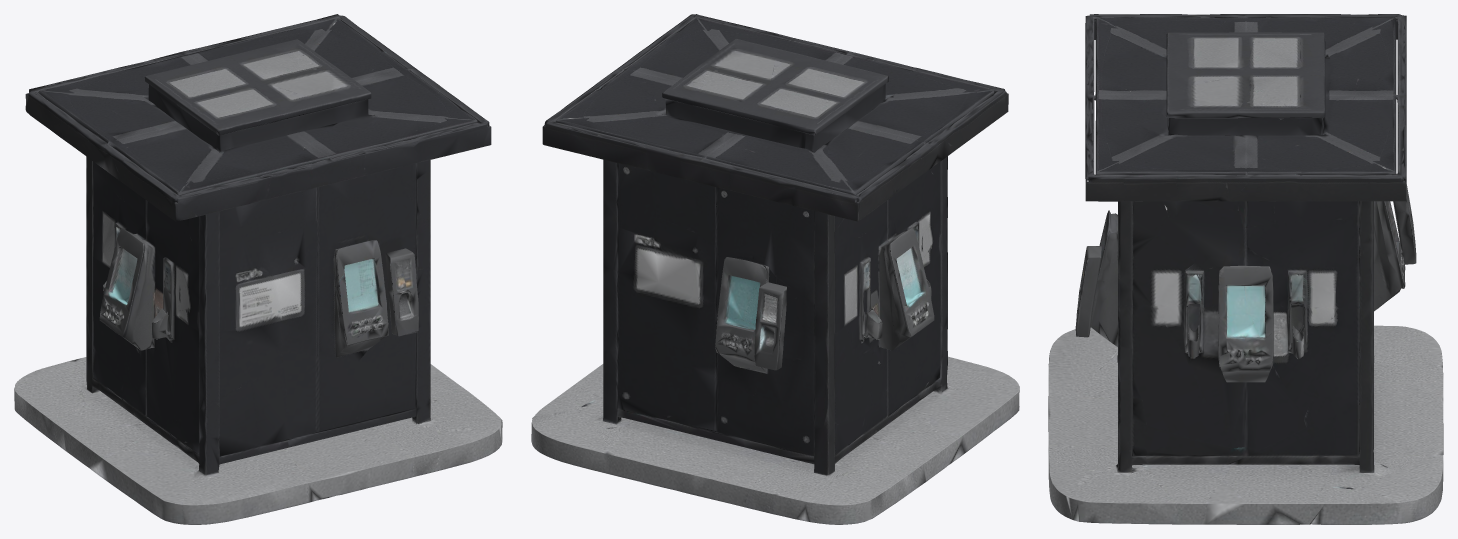
The model's file is caisse.glb.
3 views of the same model, side by side, from view 1: azimuth 30°, elevation 25°; view 2: azimuth 150°, elevation 25°; view 3: azimuth 270°, elevation 25° (orthographic). The views are drawn at different scales.
Bounding box in the file's own units: 1.9 × 1.8 × 1.77.
Materials: 1 (1 with a texture image).
